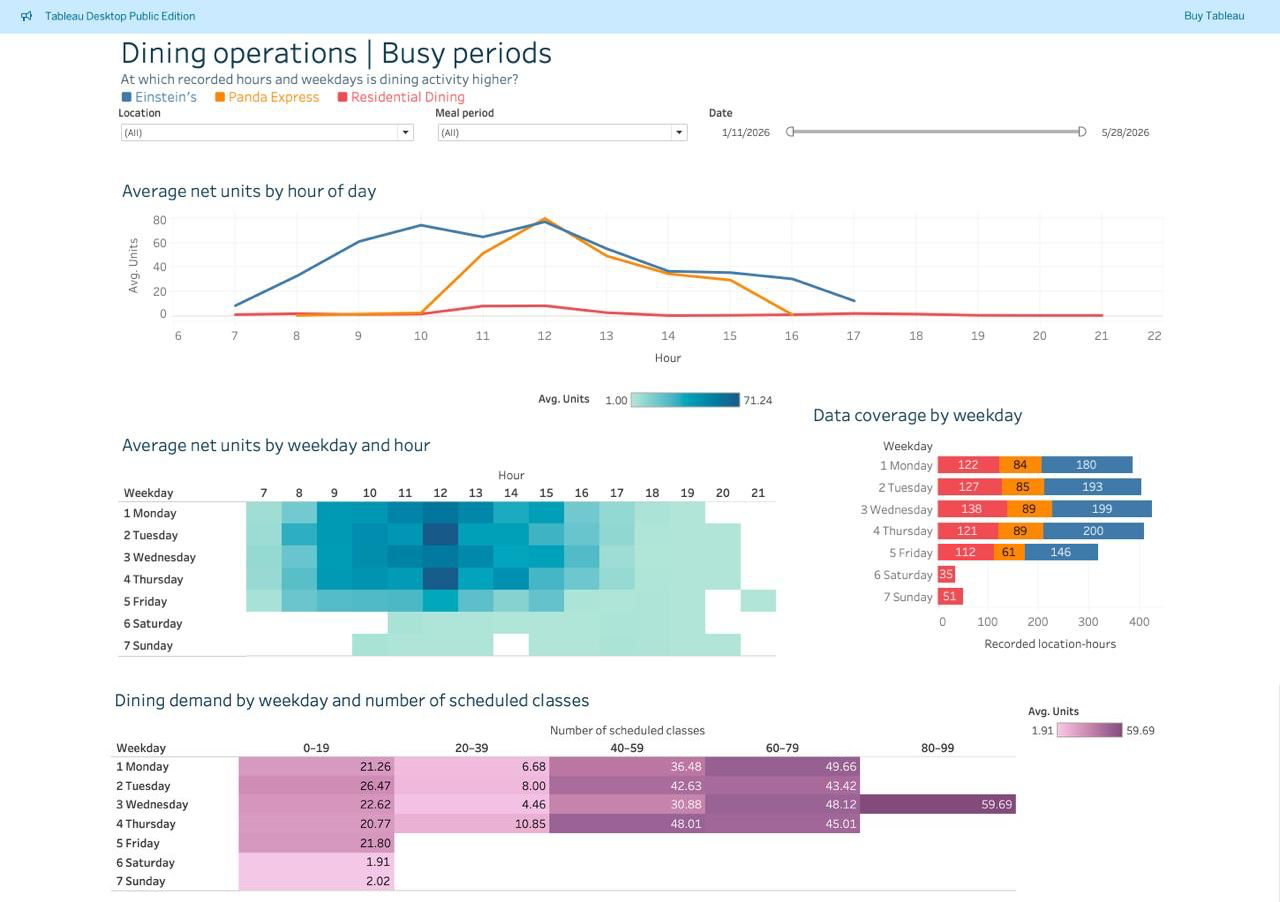

This screenshot's page, from the dashboard's own definition file:
{"tool":"tableau","page":{"name":"02 Busy periods","canvas":[1200,780],"ordinal":1},"visuals":[{"type":"text","box":[24.4,9.2,1151.3,40.4]},{"type":"text","box":[24.4,49.6,1151.3,19.3]},{"type":"text","box":[24.4,68.8,1151.3,19.3]},{"type":"filter","title":"02 Hourly profile","param":"[federated.servesmart_hourly].[none:Location:nk]","box":[24.4,89,328.1,53.2]},{"type":"filter","title":"02 Hourly profile","param":"[federated.servesmart_hourly].[none:DayPart:nk]","box":[373.1,89,281.3,53.2]},{"type":"filter","title":"02 Hourly profile","param":"[federated.servesmart_hourly].[none:Date:qk]","box":[675,89,500.6,53.2]},{"type":"worksheet","title":"02 Hourly profile","mark":"Line","rows":["Units"],"cols":["Hour"],"box":[16.9,157.8,1166.3,234]},{"type":"legend","title":"02 Weekday hour","param":"[federated.servesmart_hourly].[avg:Units:qk]","box":[487.5,403.8,262.5,34.9]},{"type":"worksheet","title":"02 Coverage","mark":"Bar","rows":["WeekdayLabel"],"cols":["ObservedHours"],"box":[778.1,406.5,405,302.8]},{"type":"worksheet","title":"02 Weekday hour","mark":"Square","rows":["WeekdayLabel"],"cols":["Hour"],"box":[16.9,440.5,740.6,268.9]},{"type":"text","box":[24.4,727.7,1151.3,45]}]}

Visuals, with their boxes on the page's 1200x780 design canvas (x1, y1, x2, y2). These are canvas units, not pixel positions in the 1280x902 screenshot, which may show the page scaled, cropped or inside an application window:
text: crop(24, 9, 1176, 50)
text: crop(24, 50, 1176, 69)
text: crop(24, 69, 1176, 88)
"02 Hourly profile" filter: crop(24, 89, 352, 142)
"02 Hourly profile" filter: crop(373, 89, 654, 142)
"02 Hourly profile" filter: crop(675, 89, 1176, 142)
"02 Hourly profile" worksheet (Line marks): crop(17, 158, 1183, 392)
"02 Weekday hour" legend: crop(488, 404, 750, 439)
"02 Coverage" worksheet (Bar marks): crop(778, 406, 1183, 709)
"02 Weekday hour" worksheet (Square marks): crop(17, 440, 758, 709)
text: crop(24, 728, 1176, 773)
